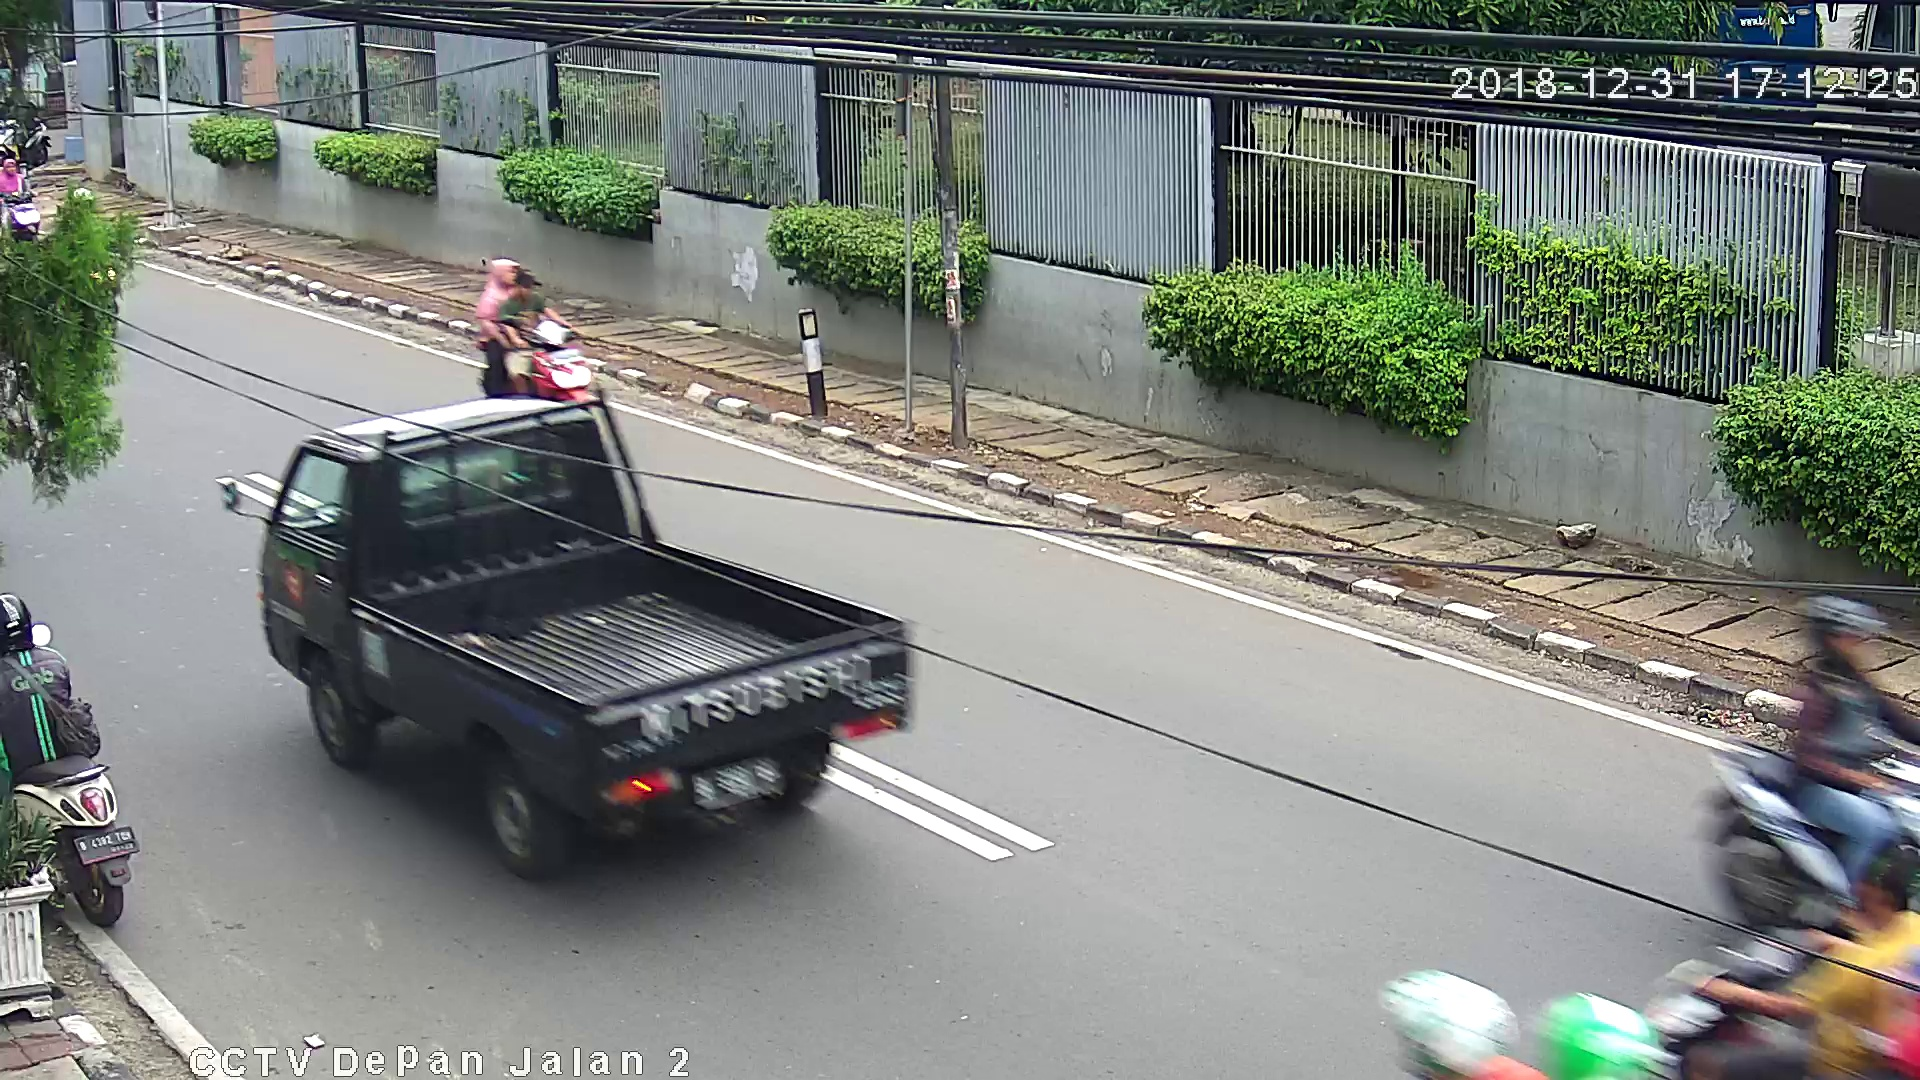motorcycle: (1, 595, 138, 934), (465, 255, 601, 405)
truck: (211, 392, 922, 881)
